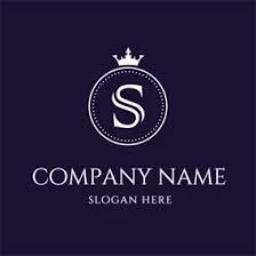a: (176, 166, 194, 190)
c: (28, 162, 50, 188)
e: (214, 164, 228, 188)
m: (194, 164, 214, 190)
n: (158, 164, 176, 190)
o: (50, 166, 70, 186)
p: (91, 166, 103, 188)
s: (112, 82, 148, 130)
y: (138, 166, 154, 188)
